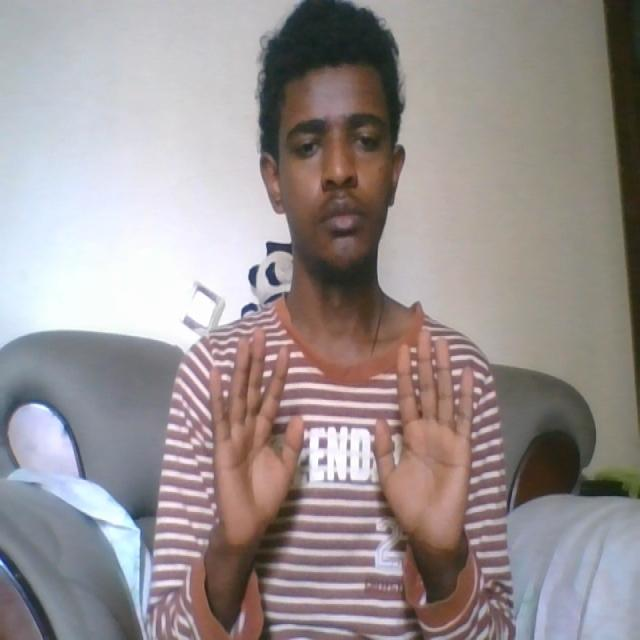megerem: (206, 328, 478, 548)
